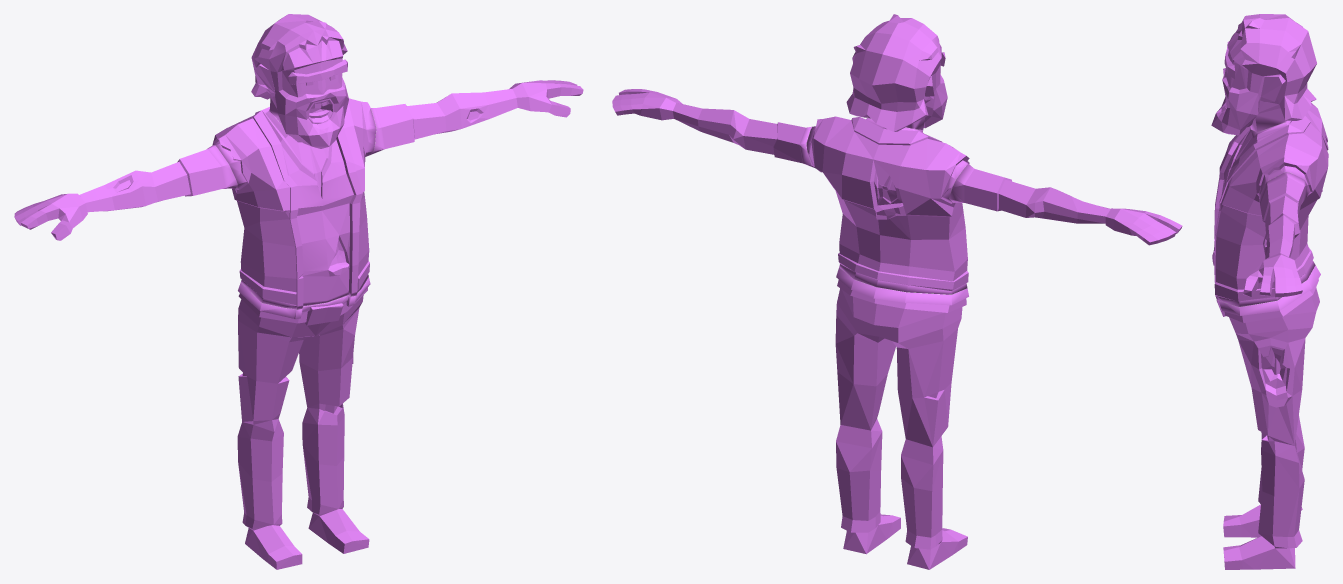
The model's file is FinalZombieBikerMale.fbx.
3 renders of one model, left to right at view 1: azimuth 30°, elevation 25°; view 2: azimuth 150°, elevation 25°; view 3: azimuth 270°, elevation 25°, orthographic.
Visible parts, largest first — view 1: Legs.002, Body.002, Head.002, RightArm.002, LeftArm.002; view 2: Legs.002, Body.002, Head.002, RightArm.002, LeftArm.002; view 3: Legs.002, Body.002, Head.002, LeftArm.002.
Boxes of the visible parts, x1,y1,x2,y2 form: Legs.002: [237, 277, 370, 569]; Body.002: [212, 98, 376, 309]; Head.002: [251, 14, 348, 148]; RightArm.002: [14, 145, 237, 240]; LeftArm.002: [368, 80, 583, 155]; Legs.002: [835, 267, 968, 569]; Body.002: [806, 116, 969, 294]; Head.002: [846, 14, 947, 131]; RightArm.002: [949, 164, 1182, 245]; LeftArm.002: [612, 89, 814, 167]; Legs.002: [1216, 265, 1320, 569]; Body.002: [1212, 102, 1328, 306]; Head.002: [1211, 14, 1316, 135]; LeftArm.002: [1243, 172, 1307, 297].
Bounding box in the file's own units: 205 × 184 × 36.74.
